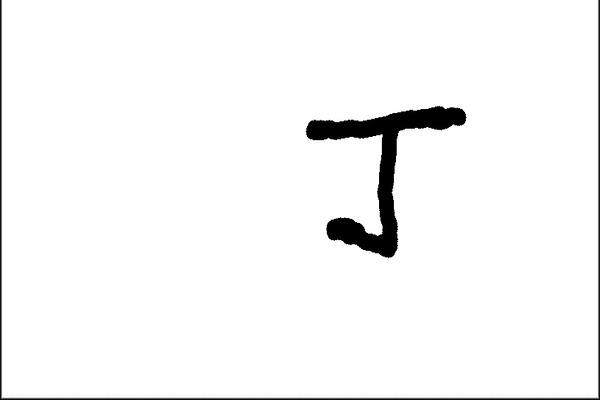J: (298, 97, 470, 265)
